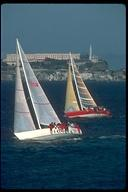sailboat: (10, 36, 85, 142), (60, 49, 117, 121)
sky: (2, 6, 122, 36)
water: (5, 142, 124, 187)
